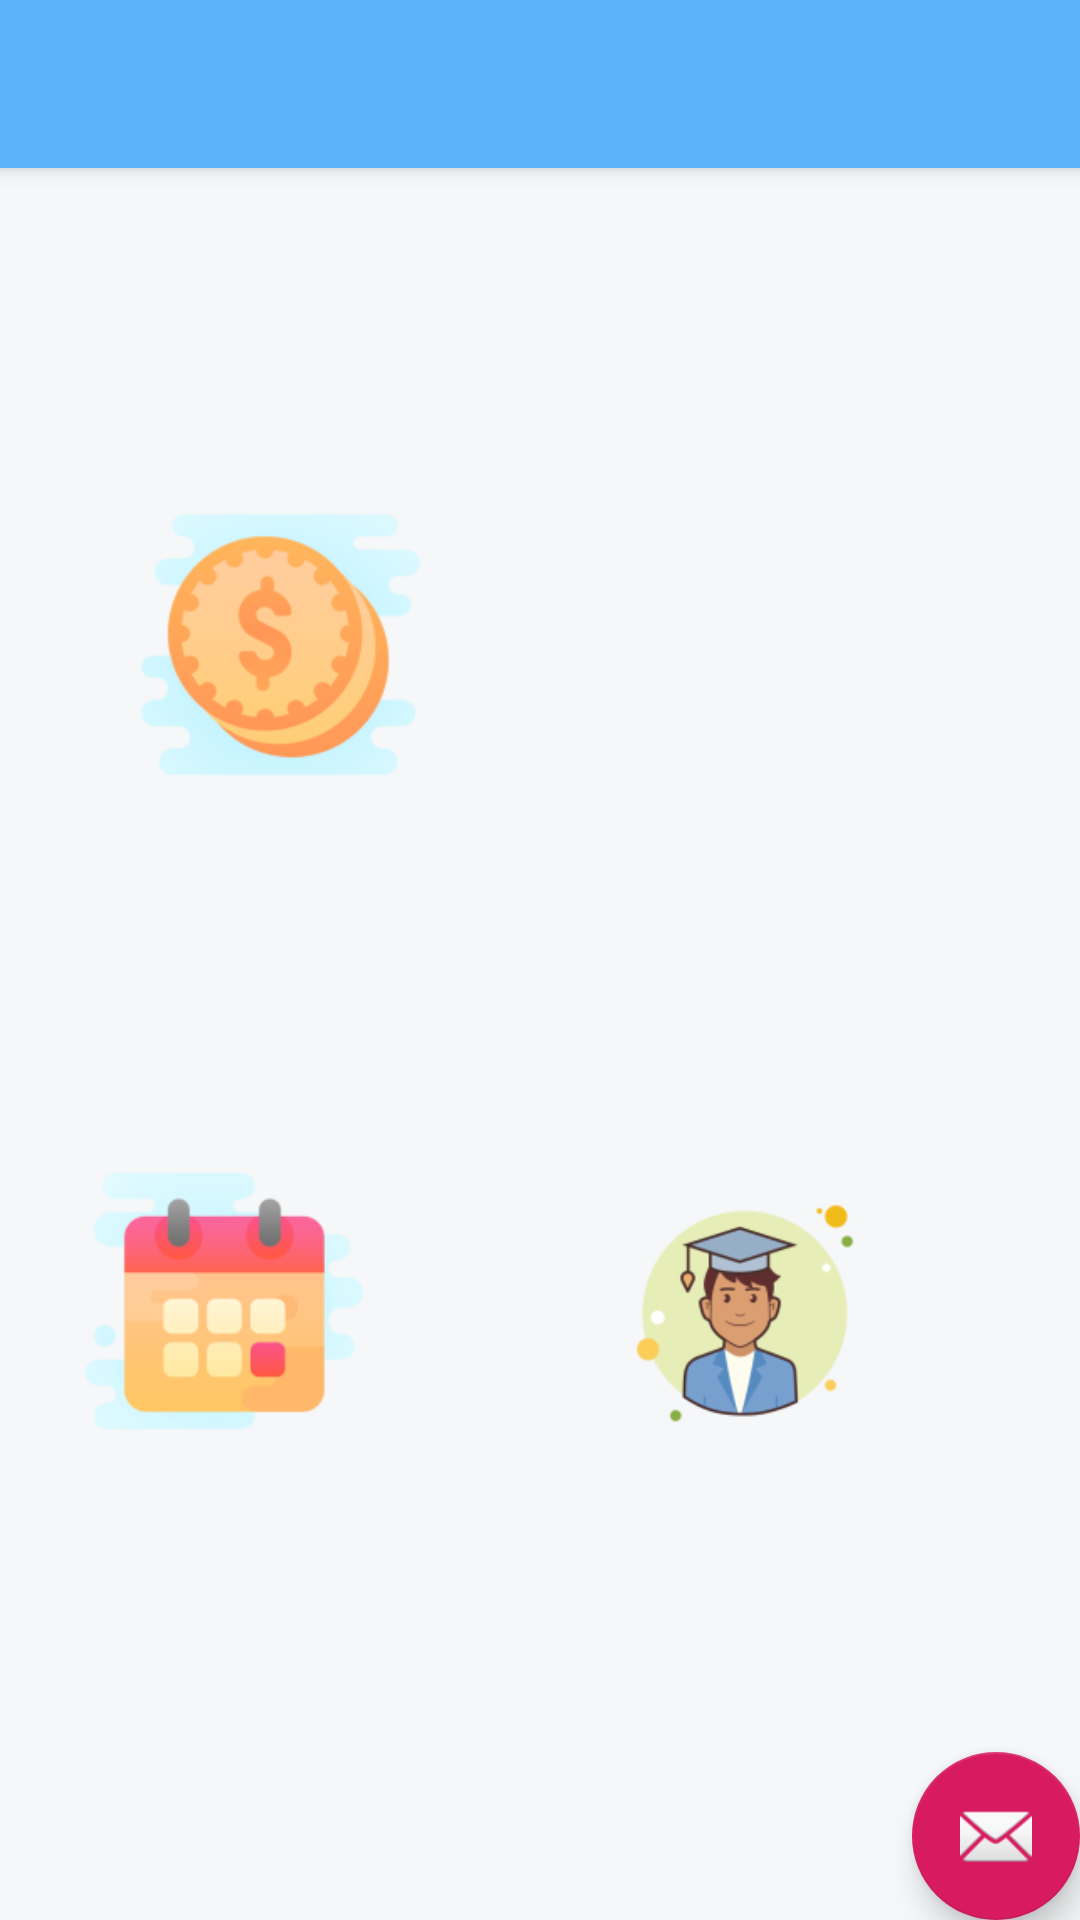

Named icons in this screenshot (1080×1920) and their bounding boxes, BBox(x1, y1, x2, y2):
email: BBox(912, 1752, 1080, 1920)
expensivness frog: BBox(142, 515, 419, 775)
student frog: BBox(636, 1205, 853, 1422)
timetable frog: BBox(86, 1173, 363, 1429)
